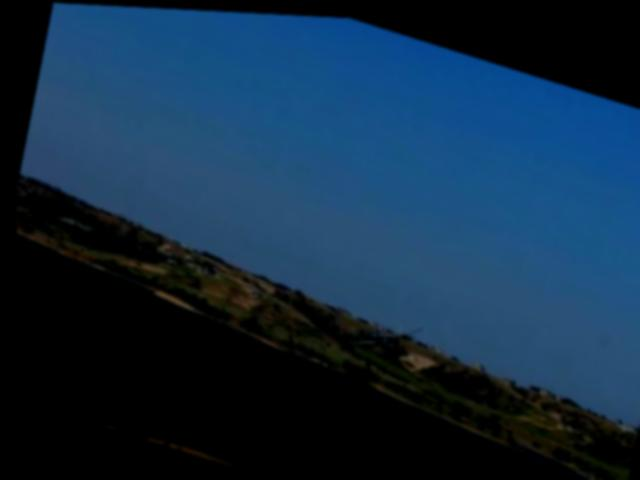iha: (338, 296, 420, 363)
